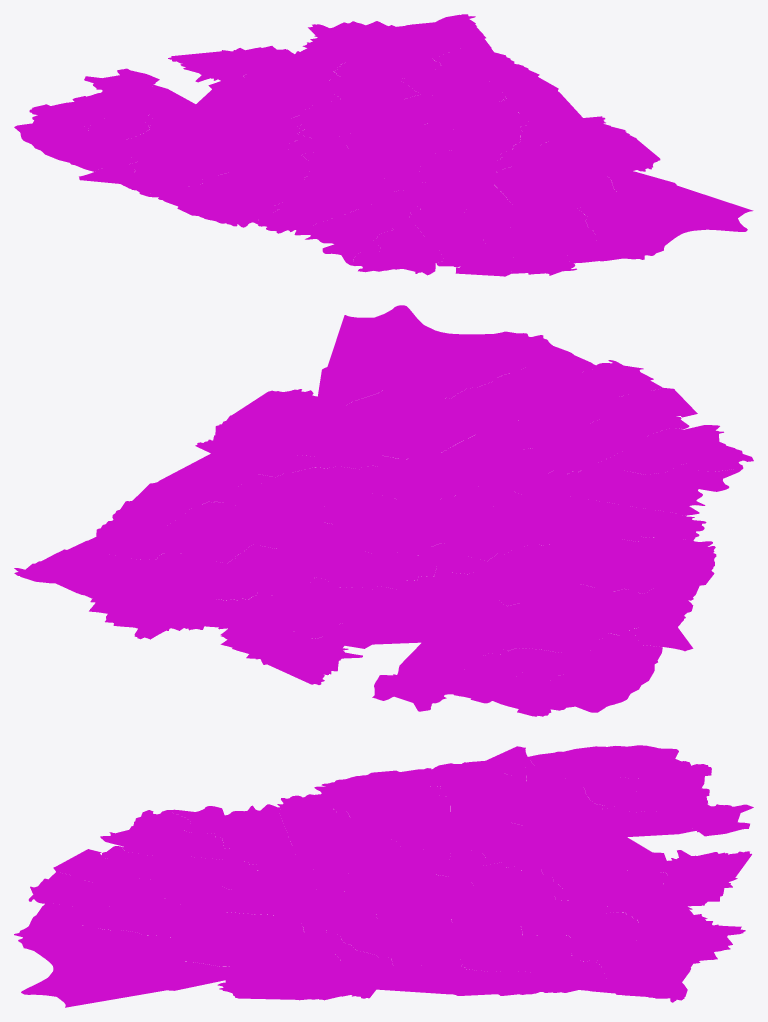
The model's file is suntPROST.fbx.
3 renders of one model, top to bottom at view 1: azimuth 30°, elevation 25°; view 2: azimuth 150°, elevation 25°; view 3: azimuth 270°, elevation 25°, orthographic. The views are drawn at different scales.
Parts seen in each view (by area): view 1: Galati, Smardan, Cudalbi, Munteni, Grivita, Frumusita, Beresti-meria, Corod, Pechea, Nicoresti, Cavadinesti, Draguseni.001 (+47 smaller); view 2: Galati, Smardan, Cudalbi, Munteni, Grivita, Frumusita, Beresti-meria, Corod, Pechea, Nicoresti, Cavadinesti, Balabanesti (+47 smaller); view 3: Galati, Smardan, Cudalbi, Munteni, Grivita, Frumusita, Beresti-meria, Corod, Nicoresti, Pechea, Cavadinesti, Draguseni.001 (+47 smaller).
Boxes of the visible parts, x1=… form: Galati: x1=593, y1=171, x2=753, y2=259; Smardan: x1=493, y1=170, x2=598, y2=243; Cudalbi: x1=301, y1=144, x2=422, y2=192; Munteni: x1=117, y1=117, x2=241, y2=163; Grivita: x1=258, y1=180, x2=396, y2=233; Frumusita: x1=502, y1=139, x2=660, y2=182; Beresti-meria: x1=308, y1=21, x2=441, y2=76; Corod: x1=217, y1=88, x2=311, y2=142; Pechea: x1=389, y1=177, x2=509, y2=218; Nicoresti: x1=14, y1=123, x2=138, y2=172; Cavadinesti: x1=383, y1=14, x2=493, y2=59; Draguseni.001: x1=244, y1=69, x2=342, y2=110; Galati: x1=318, y1=305, x2=552, y2=408; Smardan: x1=383, y1=366, x2=538, y2=459; Cudalbi: x1=412, y1=494, x2=569, y2=561; Munteni: x1=444, y1=596, x2=610, y2=654; Grivita: x1=507, y1=484, x2=706, y2=541; Frumusita: x1=232, y1=389, x2=406, y2=458; Beresti-meria: x1=89, y1=552, x2=215, y2=639; Corod: x1=339, y1=566, x2=492, y2=624; Pechea: x1=432, y1=434, x2=585, y2=495; Nicoresti: x1=574, y1=628, x2=662, y2=712; Cavadinesti: x1=14, y1=537, x2=154, y2=599; Balabanesti: x1=201, y1=591, x2=286, y2=661; Galati: x1=14, y1=924, x2=235, y2=1007; Smardan: x1=78, y1=909, x2=301, y2=939; Cudalbi: x1=342, y1=837, x2=450, y2=898; Munteni: x1=510, y1=778, x2=603, y2=842; Grivita: x1=277, y1=794, x2=364, y2=867; Frumusita: x1=217, y1=926, x2=304, y2=999; Beresti-meria: x1=570, y1=924, x2=745, y2=963; Corod: x1=481, y1=834, x2=627, y2=876; Nicoresti: x1=504, y1=745, x2=678, y2=780; Pechea: x1=223, y1=859, x2=317, y2=915; Cavadinesti: x1=579, y1=953, x2=693, y2=1002; Draguseni.001: x1=552, y1=868, x2=667, y2=905.
Size of the model in its own units: 2046348 by 0.0586 by 2437127.
